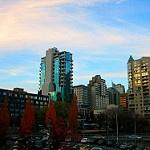building: (38, 46, 73, 104), (126, 54, 149, 123)
